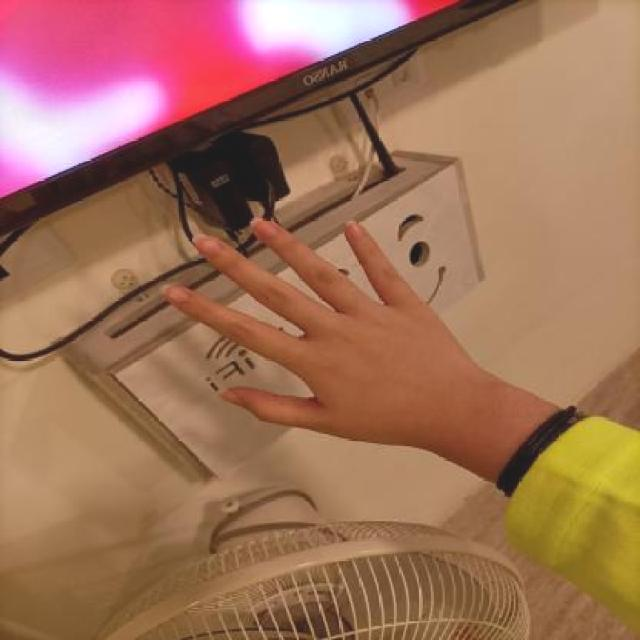no_glove: (143, 206, 494, 474)
